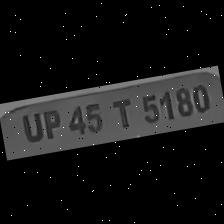0: (188, 79, 214, 114)
1: (154, 85, 177, 122)
4: (60, 100, 88, 138)
5: (78, 97, 106, 136), (134, 88, 162, 125)
8: (170, 82, 194, 119)
P: (37, 104, 63, 140)
T: (104, 92, 138, 131)
U: (15, 107, 45, 144)
